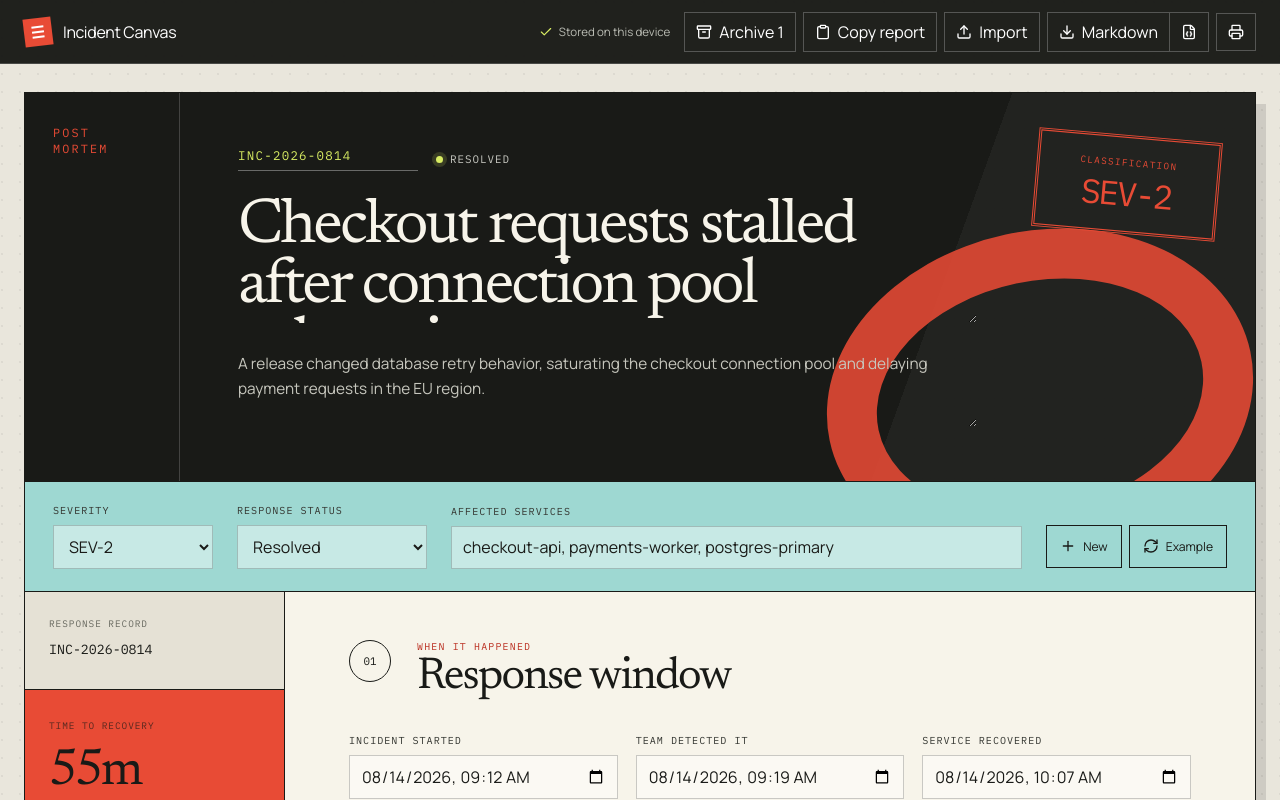
Scenario: Incident Canvas › duplicates and switches incidents from the archive
Click the button "Archive 1" at (740, 32), box [684,12,796,52]
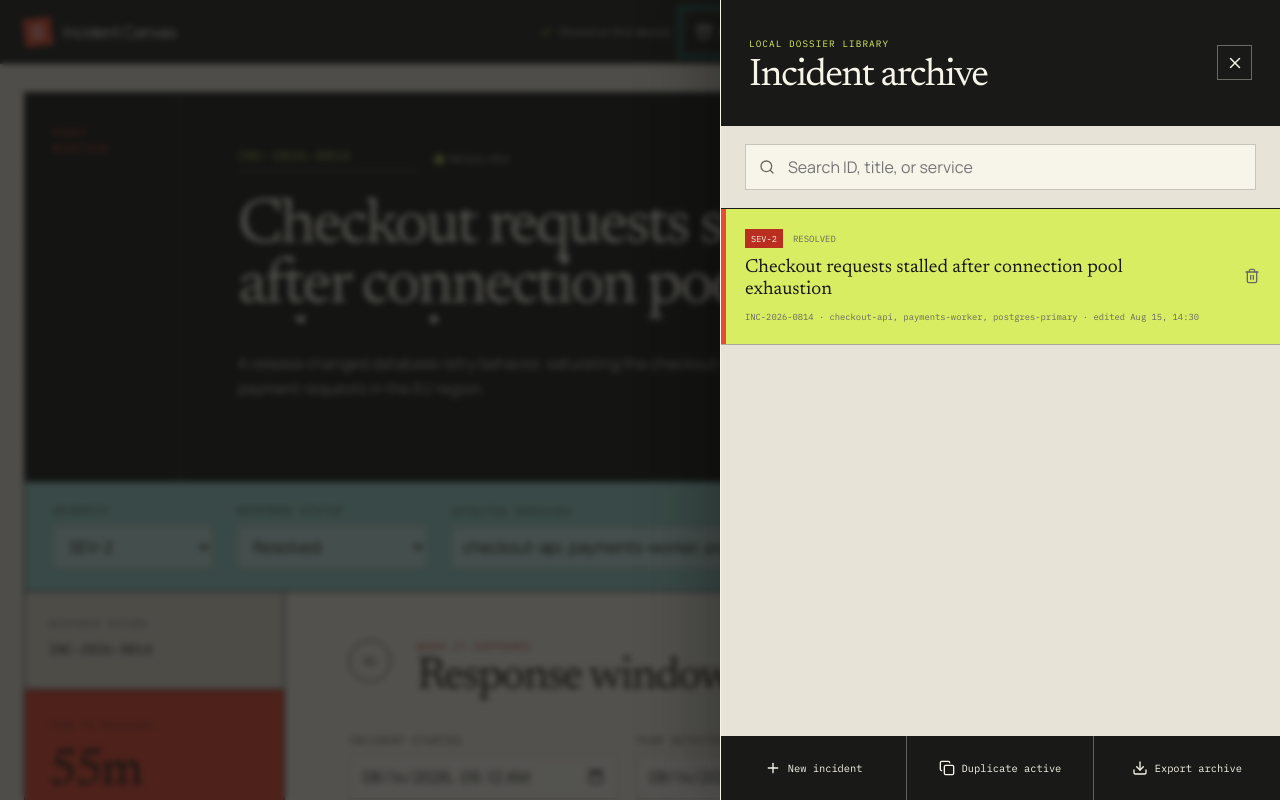
Click the button "Duplicate active" at (1000, 768), box [907,736,1094,799]
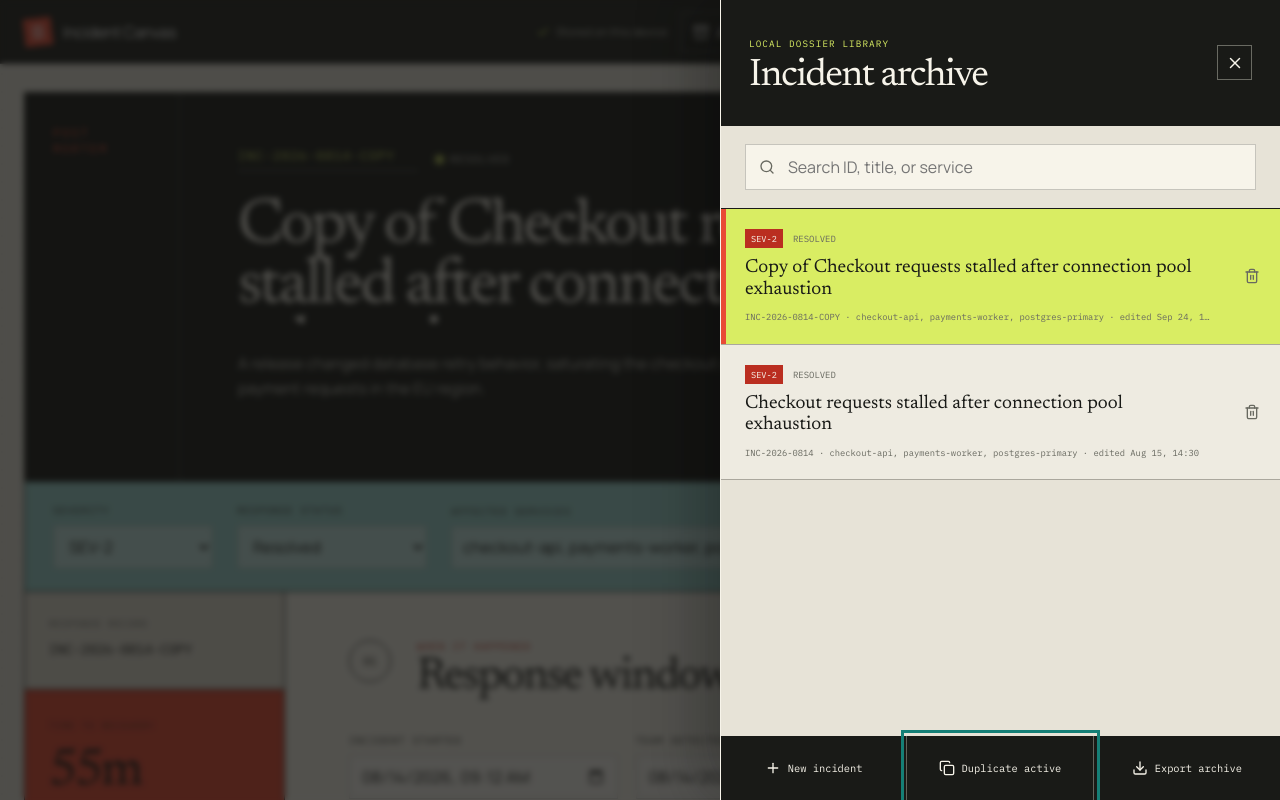
Expected: the button "Archive 2" is shown, [681,12,796,52]
Expected: the text "Copy of Checkout requests stalled" is shown, [745,258,1192,299]
